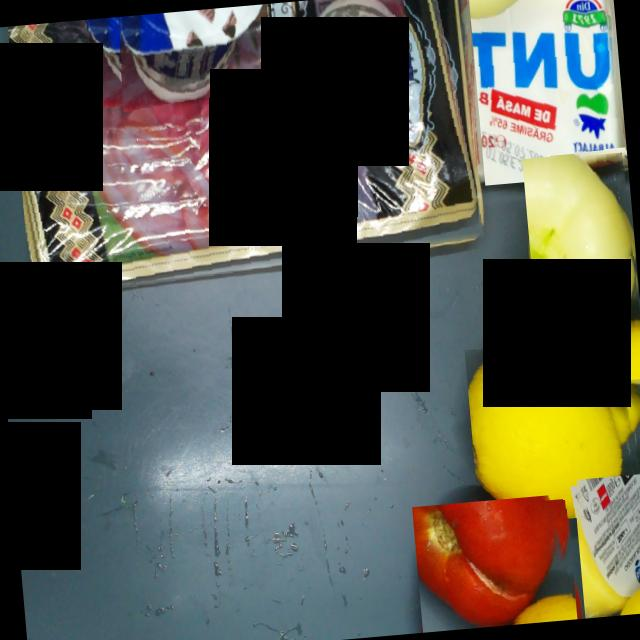bacon: (7, 0, 486, 300)
butter: (467, 0, 628, 185)
cheese: (573, 472, 640, 618)
lemon: (464, 333, 640, 525)
pepper: (522, 152, 640, 387)
tomatoes: (412, 493, 578, 632)
yogurt: (115, 3, 274, 112), (270, 0, 414, 97)
